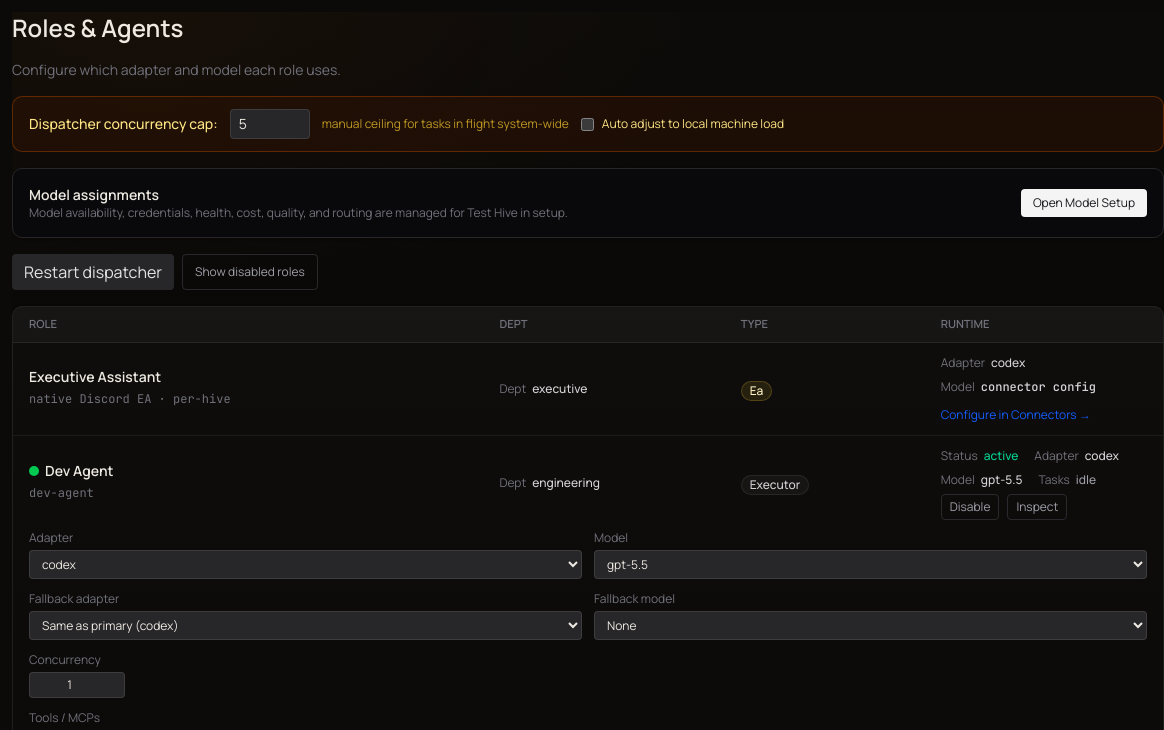
it: RolesPage › keeps role edits visible and shows the server error when save fails
Replace the text in the number field titled "Max tasks of this role the dispatcher will run in parallel" with "3" at (77, 685), box [29,672,125,698]
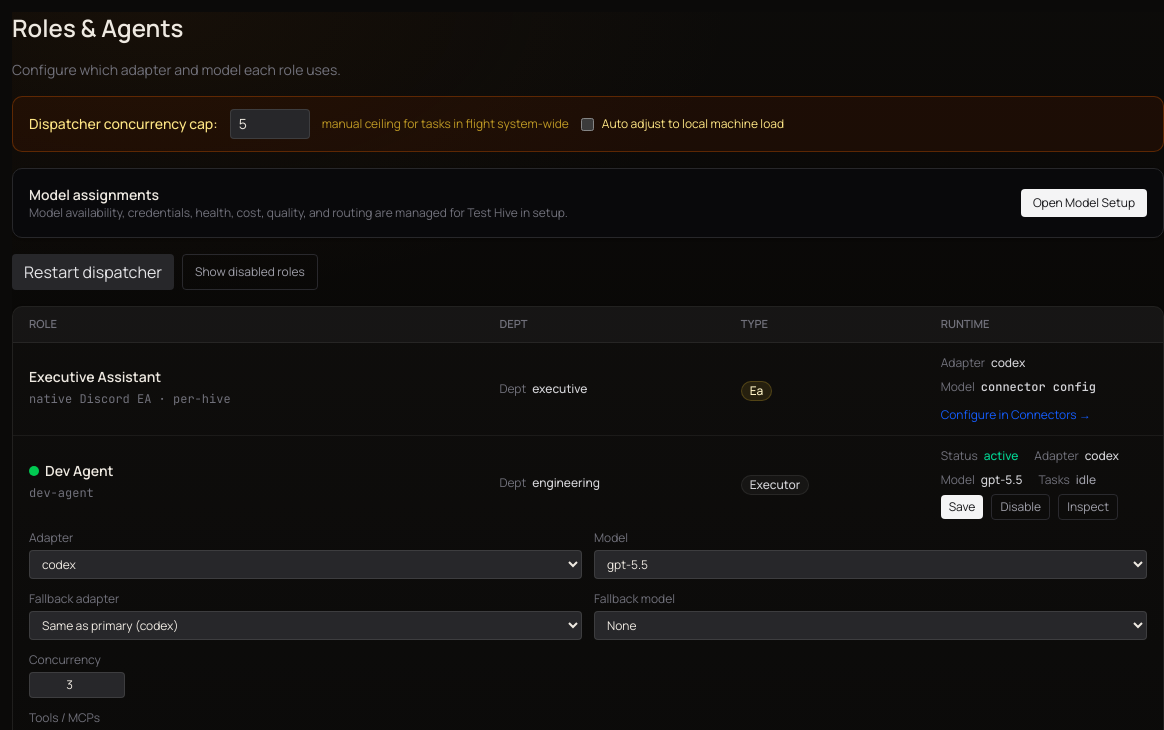
Click the button "Save" at (962, 507), box [941,495,983,519]
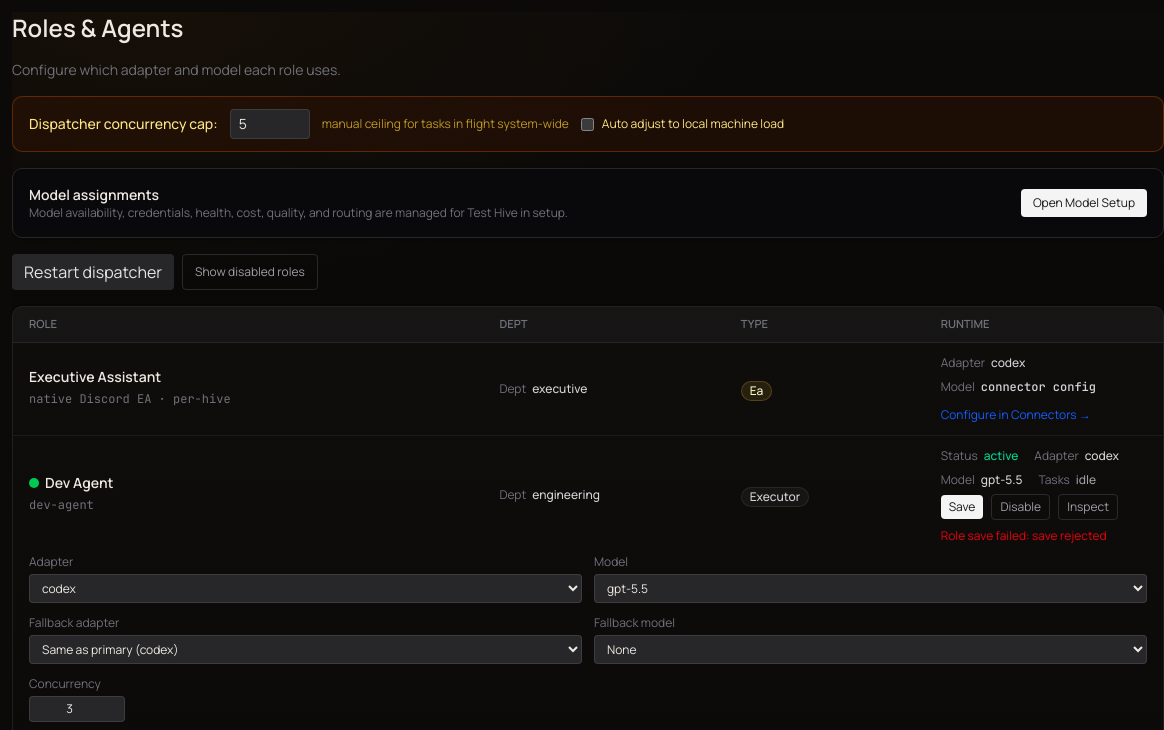
Expected: the button "Save" is shown, [941,495,983,519]
Expected: the text "Role save failed: save rejected" is shown, [941,528,1107,544]
